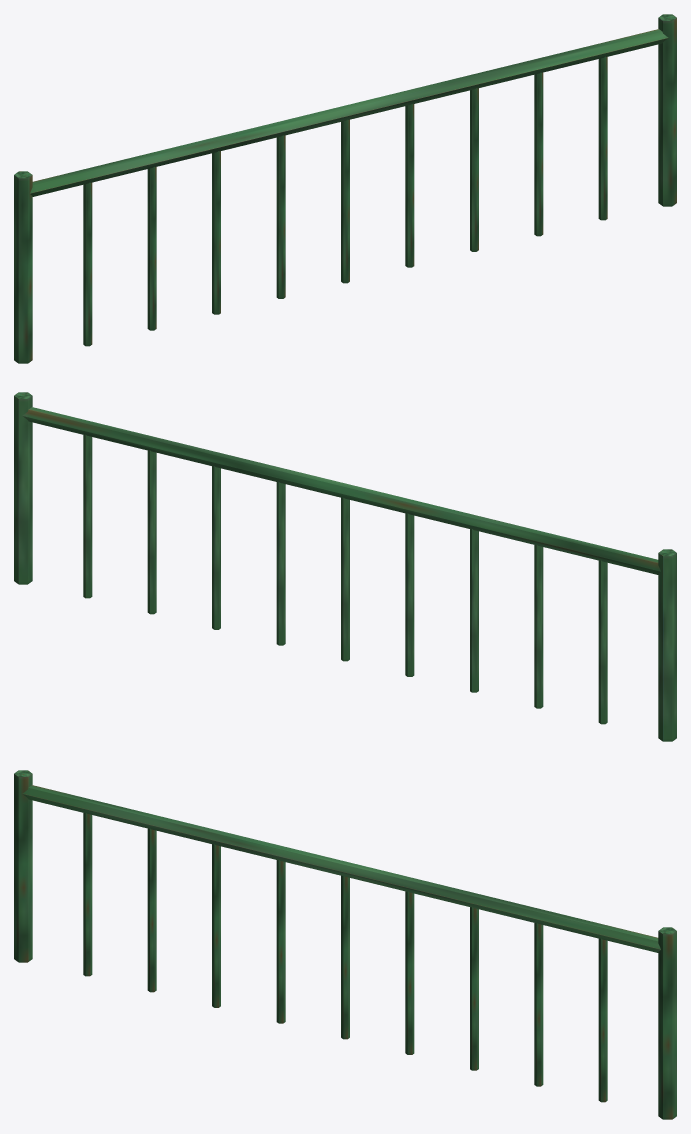
Rendered from fence_low.fbx.
3 renders of one model, top to bottom at view 1: azimuth 30°, elevation 25°; view 2: azimuth 150°, elevation 25°; view 3: azimuth 330°, elevation 25°, orthographic.
Parts seen in each view (by area): view 1: fence_low; view 2: fence_low; view 3: fence_low.
Part boxes in pixels (left/top/right/bottom): fence_low: left=14, top=14, right=676, bottom=363; fence_low: left=14, top=392, right=676, bottom=741; fence_low: left=14, top=770, right=676, bottom=1119.
Bounding box in the file's own units: 2.04 × 0.55 × 0.05.
